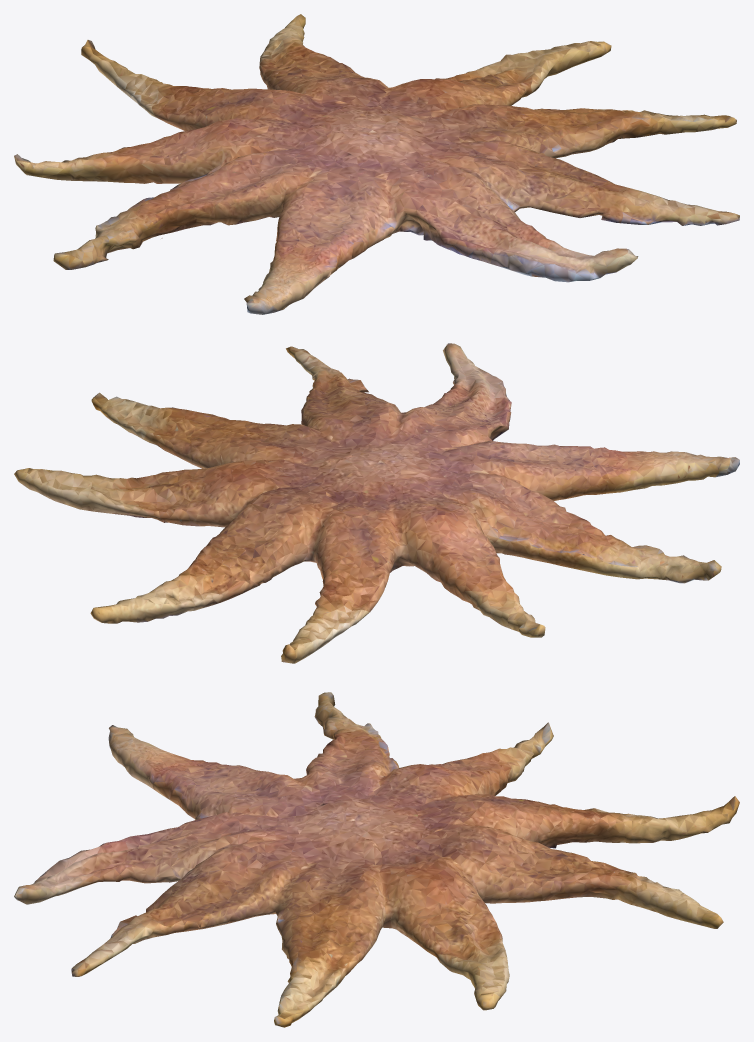
Rendered from SeaStar_FBX_still.fbx.
3 renders of one model, top to bottom at view 1: azimuth 30°, elevation 25°; view 2: azimuth 150°, elevation 25°; view 3: azimuth 270°, elevation 25°, orthographic. The views are drawn at different scales.
Parts seen in each view (by area): view 1: SeaStar_gameasset; view 2: SeaStar_gameasset; view 3: SeaStar_gameasset.
Boxes of the visible parts, box(x1,y1,x2,y2) form: SeaStar_gameasset: box(14, 14, 739, 314); SeaStar_gameasset: box(14, 343, 739, 663); SeaStar_gameasset: box(14, 692, 739, 1027).
Bounding box in the file's own units: 16.3 × 1.45 × 15.38.
1 material, 1 textured.
